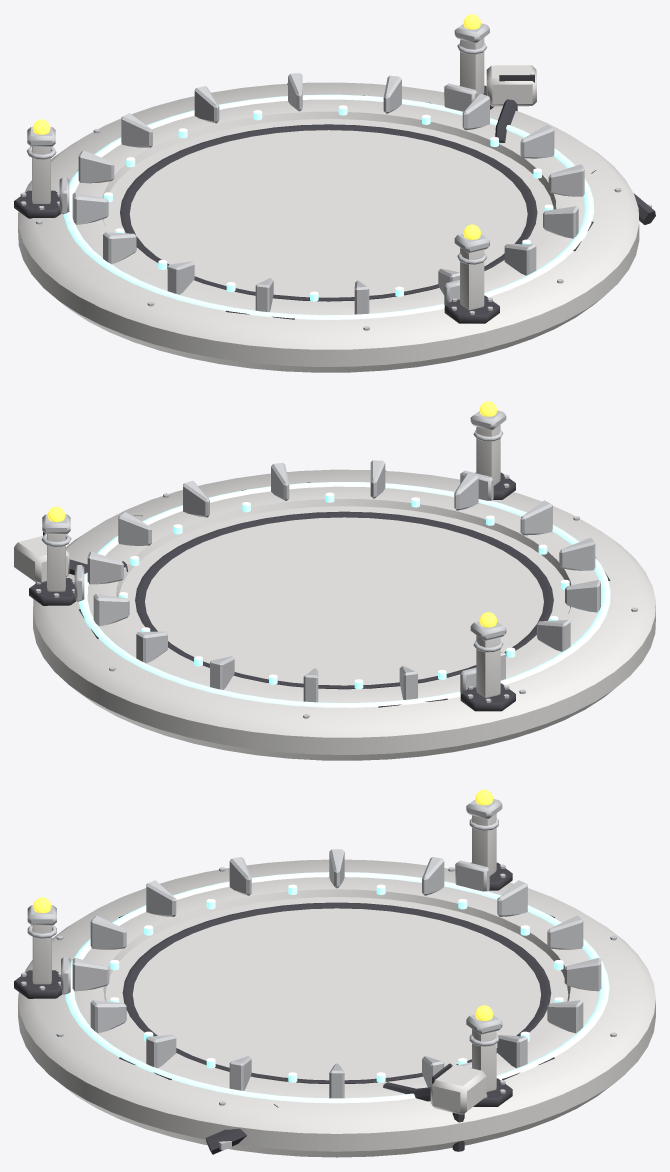
File: teleport_pad.glb
3 renders of one model, top to bottom at view 1: azimuth 30°, elevation 25°; view 2: azimuth 150°, elevation 25°; view 3: azimuth 270°, elevation 25°, orthographic. The views are drawn at different scales.
Visible parts, largest first — view 1: deck, teeth, glowring, bowl, jbox, post_2, toothglow, post_0, post_1, post_flange_2, post_flange_1, postgusset_0 (+1 smaller); view 2: deck, teeth, glowring, bowl, toothglow, jbox, post_1, post_2, post_0, post_flange_1, post_flange_0; view 3: deck, teeth, glowring, bowl, jbox, toothglow, post_1, post_2, post_0, postgusset_1, post_flange_2, conduit_a (+1 smaller).
Part boxes in pixels (x1,y1,x2,y2): deck: (18, 82, 639, 372); teeth: (72, 73, 584, 314); glowring: (63, 94, 594, 319); bowl: (120, 124, 537, 301); jbox: (486, 65, 536, 106); post_2: (460, 248, 484, 310); toothglow: (104, 105, 553, 301); post_0: (460, 37, 484, 95); post_1: (32, 146, 50, 203); post_flange_2: (444, 295, 499, 323); post_flange_1: (14, 190, 60, 218); postgusset_0: (444, 83, 477, 111); deck: (33, 469, 655, 760); teeth: (87, 460, 600, 702); glowring: (79, 482, 610, 707); bowl: (135, 511, 553, 689); toothglow: (119, 492, 569, 689); jbox: (14, 535, 69, 583); post_1: (476, 635, 500, 697); post_2: (476, 425, 500, 485); post_0: (47, 534, 65, 591); post_flange_1: (460, 683, 515, 711); post_flange_0: (29, 578, 75, 605); deck: (18, 859, 655, 1157); teeth: (72, 849, 601, 1098); glowring: (65, 872, 609, 1103); bowl: (122, 902, 551, 1083); jbox: (430, 1064, 486, 1114); toothglow: (110, 884, 563, 1082); post_1: (472, 813, 496, 875); post_2: (32, 925, 51, 984); post_0: (472, 1029, 496, 1091); postgusset_1: (455, 860, 489, 891); post_flange_2: (14, 970, 62, 998); conduit_a: (205, 1104, 278, 1154).
Bounding box in the file's own units: 5.24 × 1.18 × 5.27.
